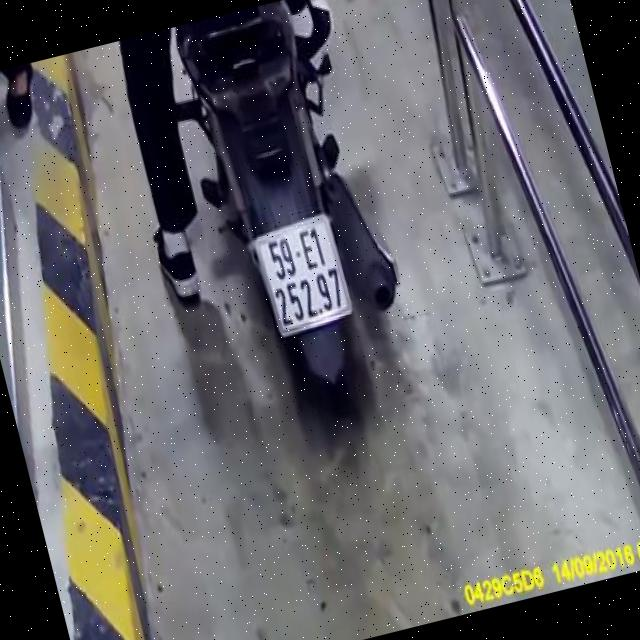license_plate: (252, 216, 360, 336)
